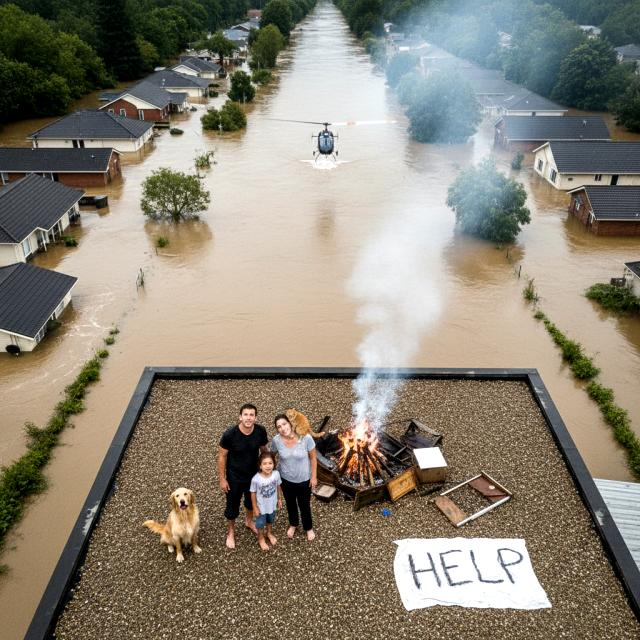cat: (283, 403, 327, 447)
civilian: (212, 398, 276, 554), (272, 412, 324, 547), (251, 443, 287, 557)
dog: (140, 484, 208, 565)
